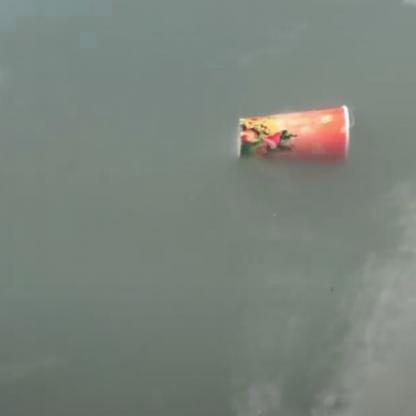Plastic: (238, 106, 350, 166)
